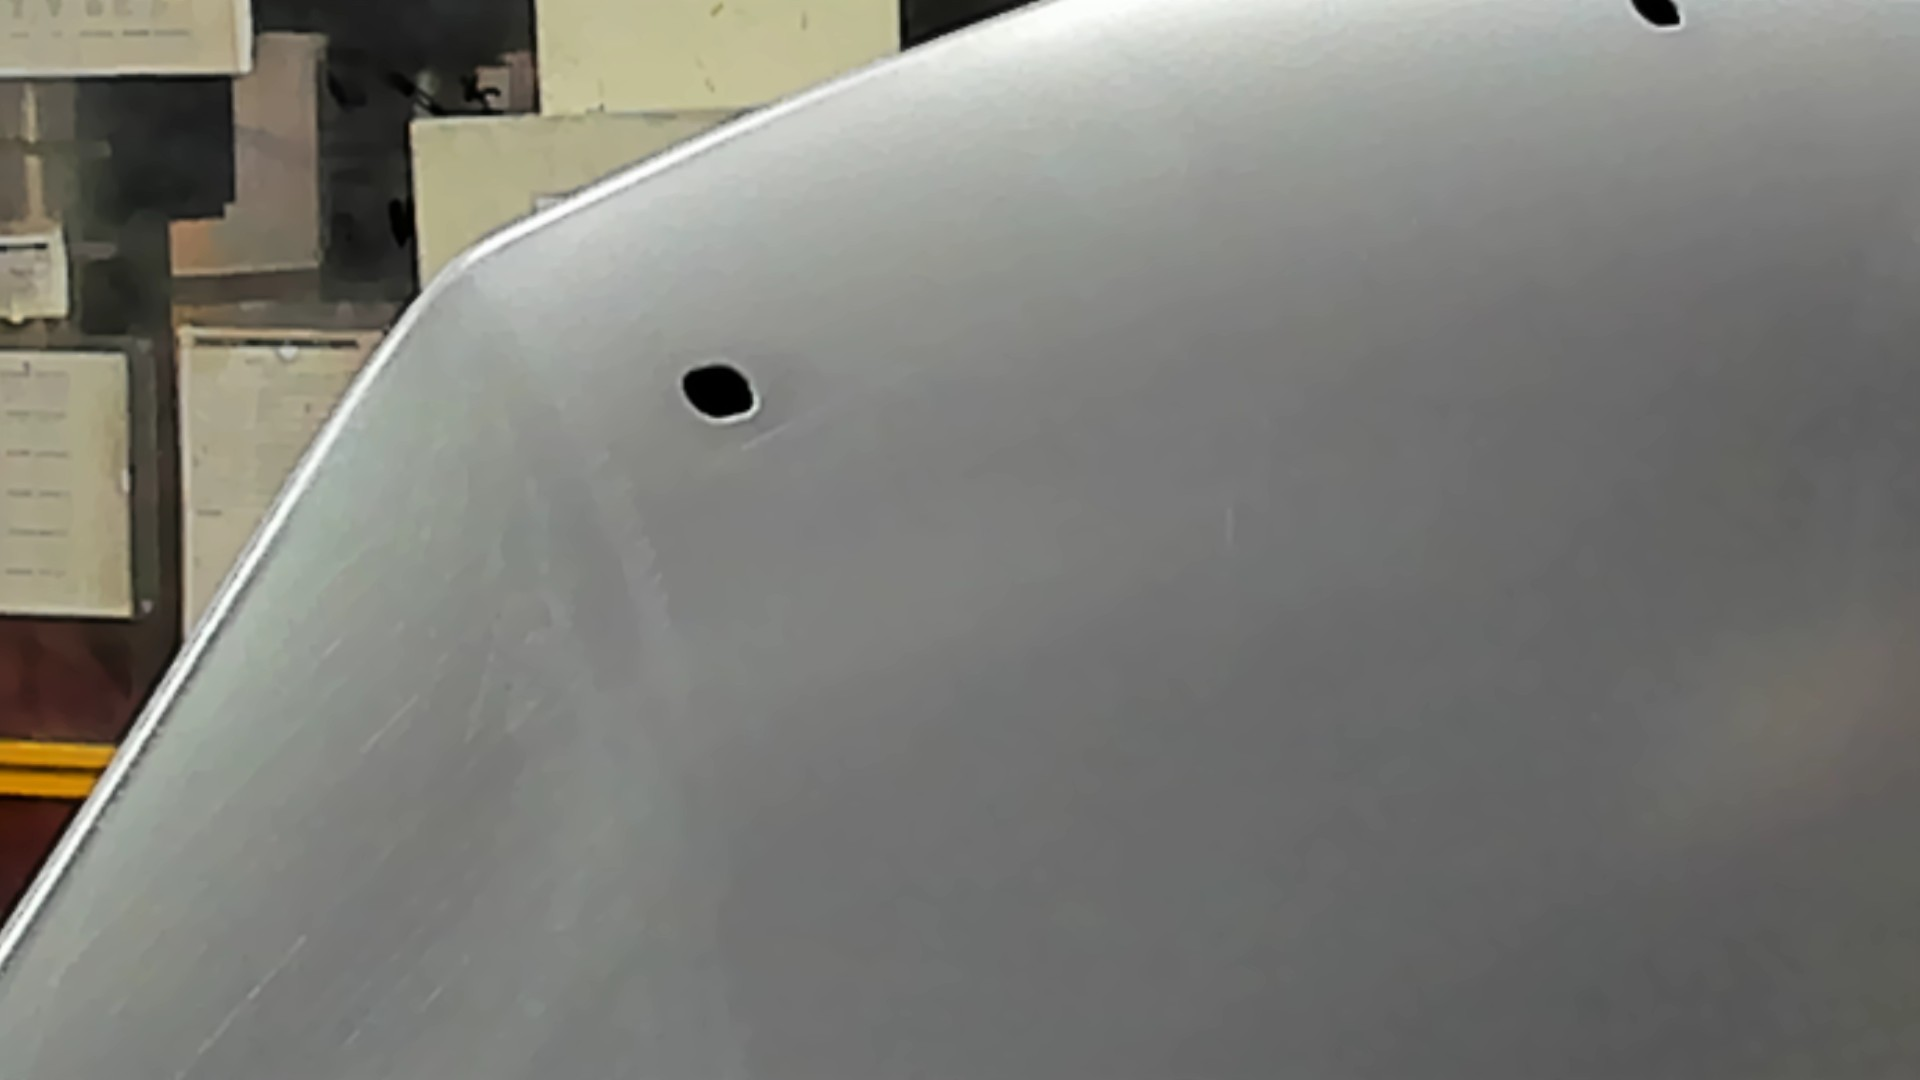amorfo: (671, 360, 773, 429), (1619, 1, 1692, 41)
capo: (876, 116, 1920, 1080)
